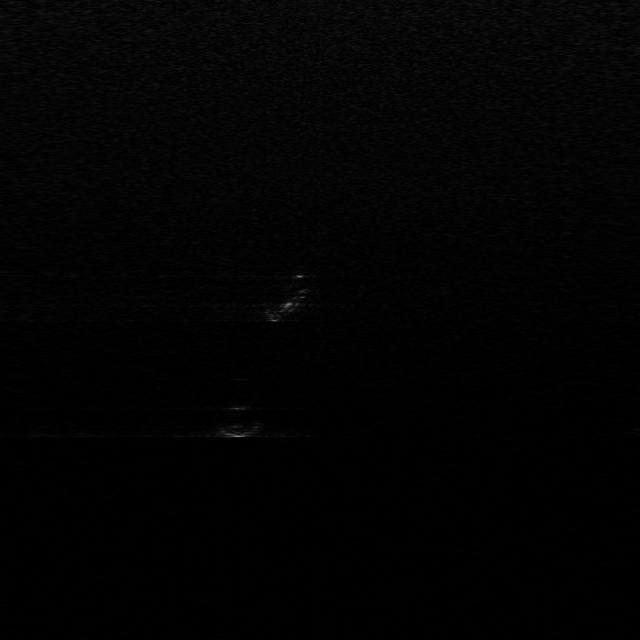ball: (214, 404, 264, 440)
tyre: (267, 267, 311, 324)
